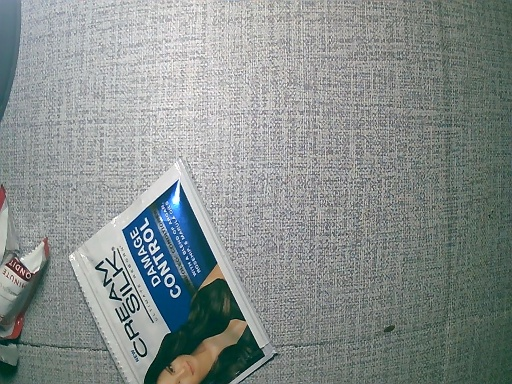plastic: (70, 165, 281, 384), (1, 179, 52, 364)
